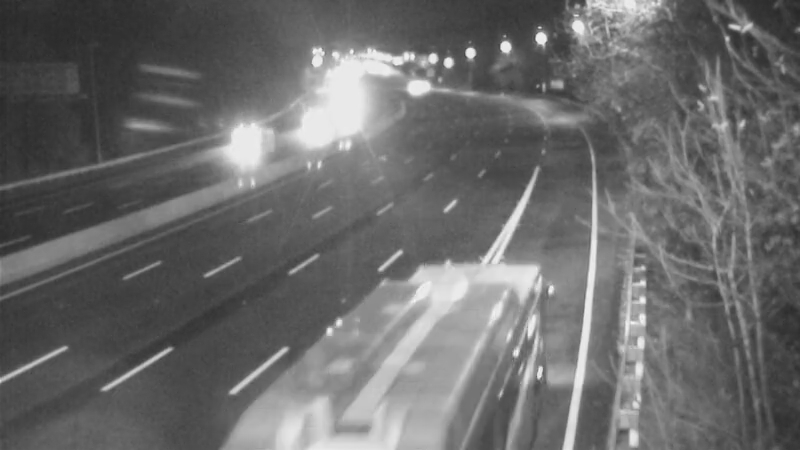vehicle: (327, 326, 437, 436), (220, 111, 270, 161), (294, 103, 344, 153)
